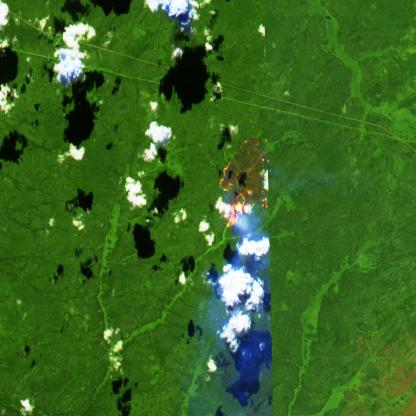fire: (216, 158, 268, 230)
